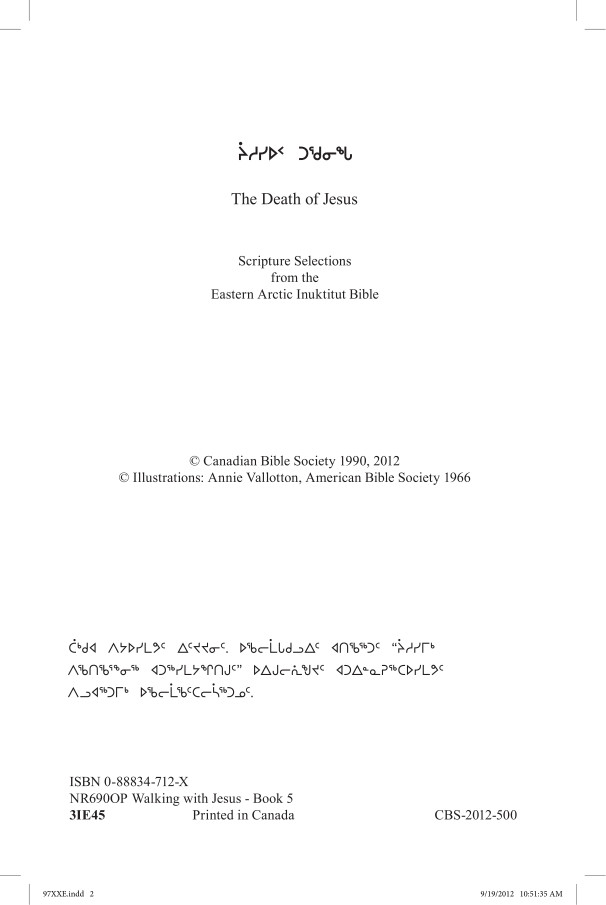inuktitut: (59, 629, 448, 707), (225, 130, 359, 164)
latin: (113, 449, 473, 488), (200, 245, 389, 309), (221, 185, 366, 208)
